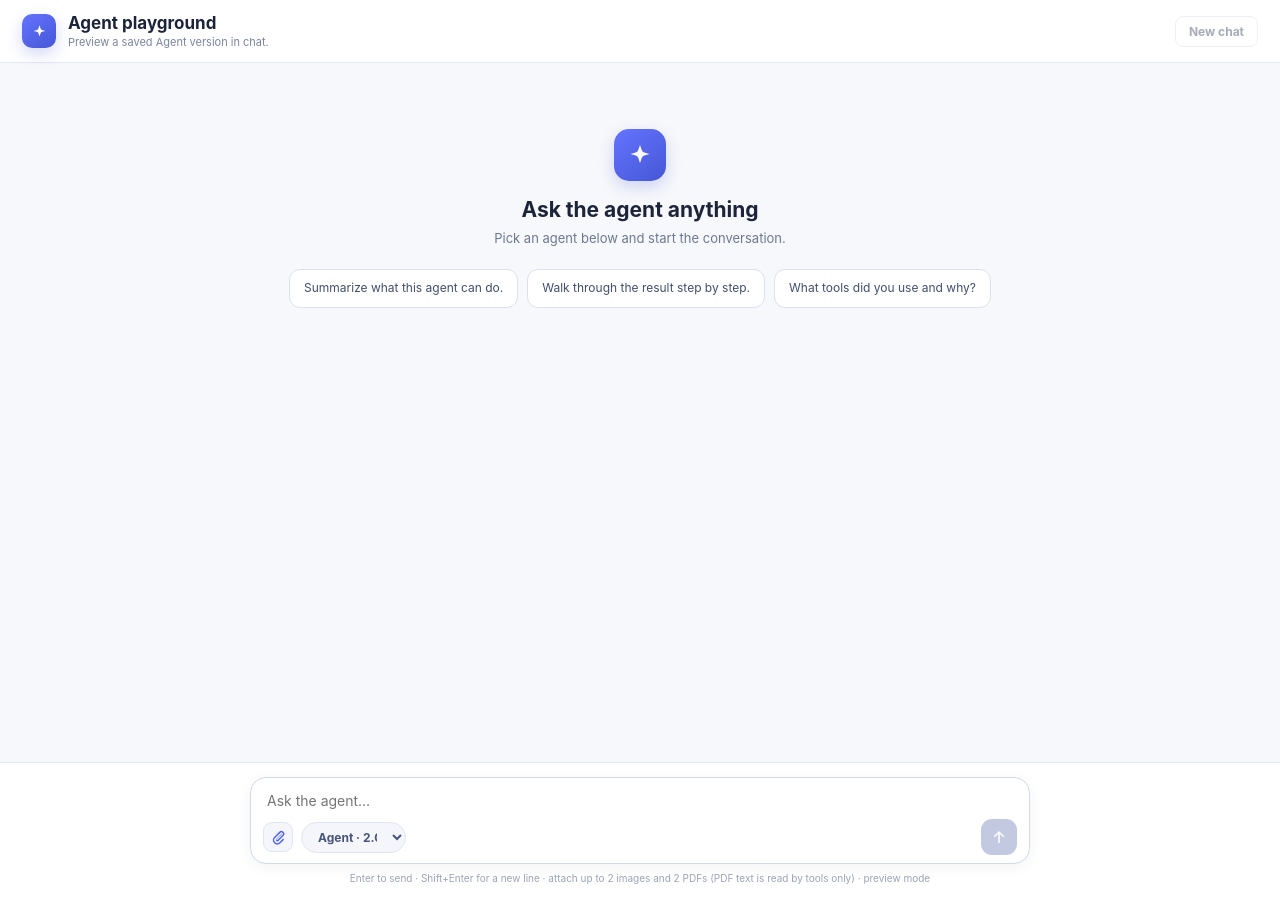
Scenario: ChatPage › 保存済みAgent versionを固定して実行し応答を表示する
In the text box named "Chat message": (640,800) [263,788,1017,813], type "hello"
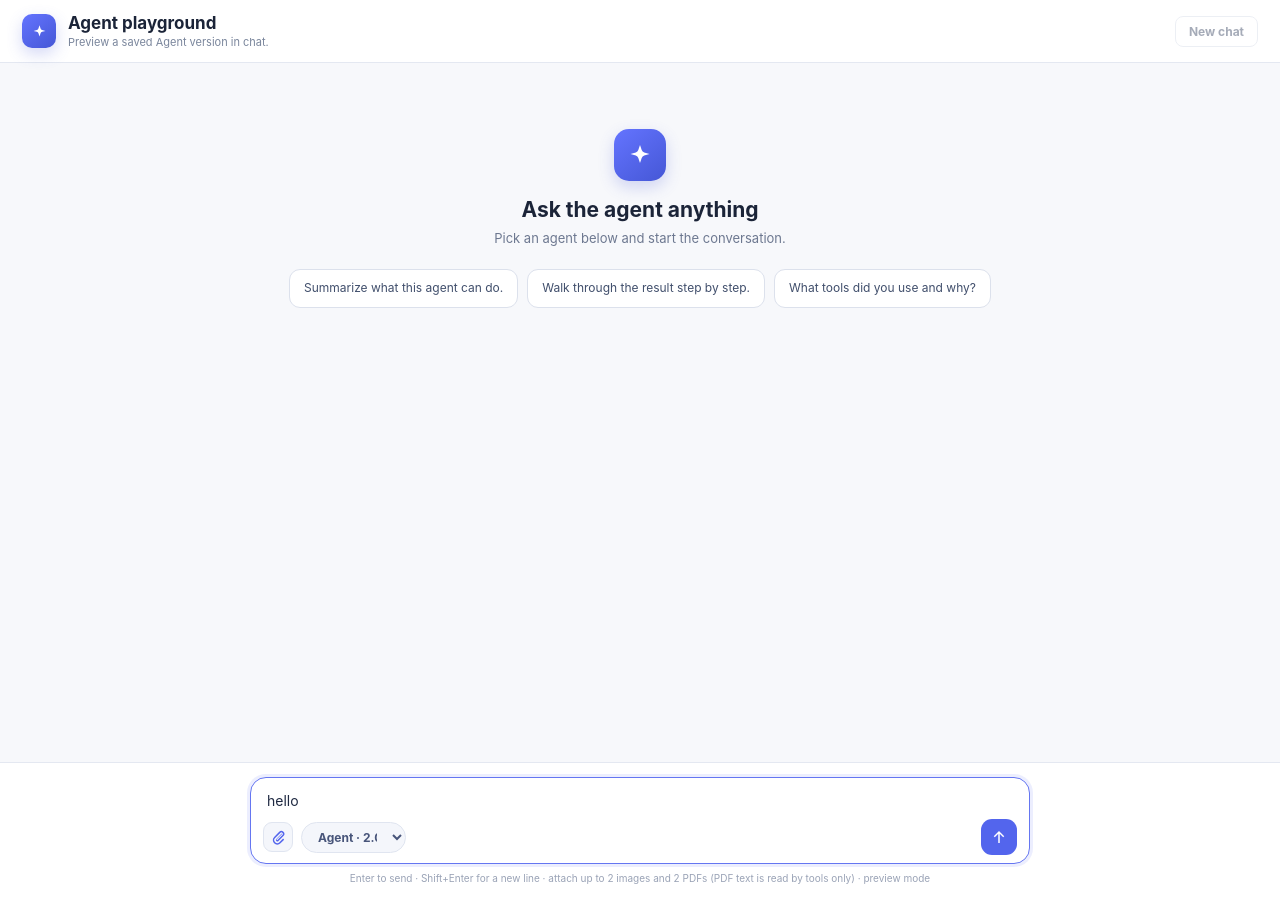
Click the button named "Send": (999,837) [981,819,1017,855]
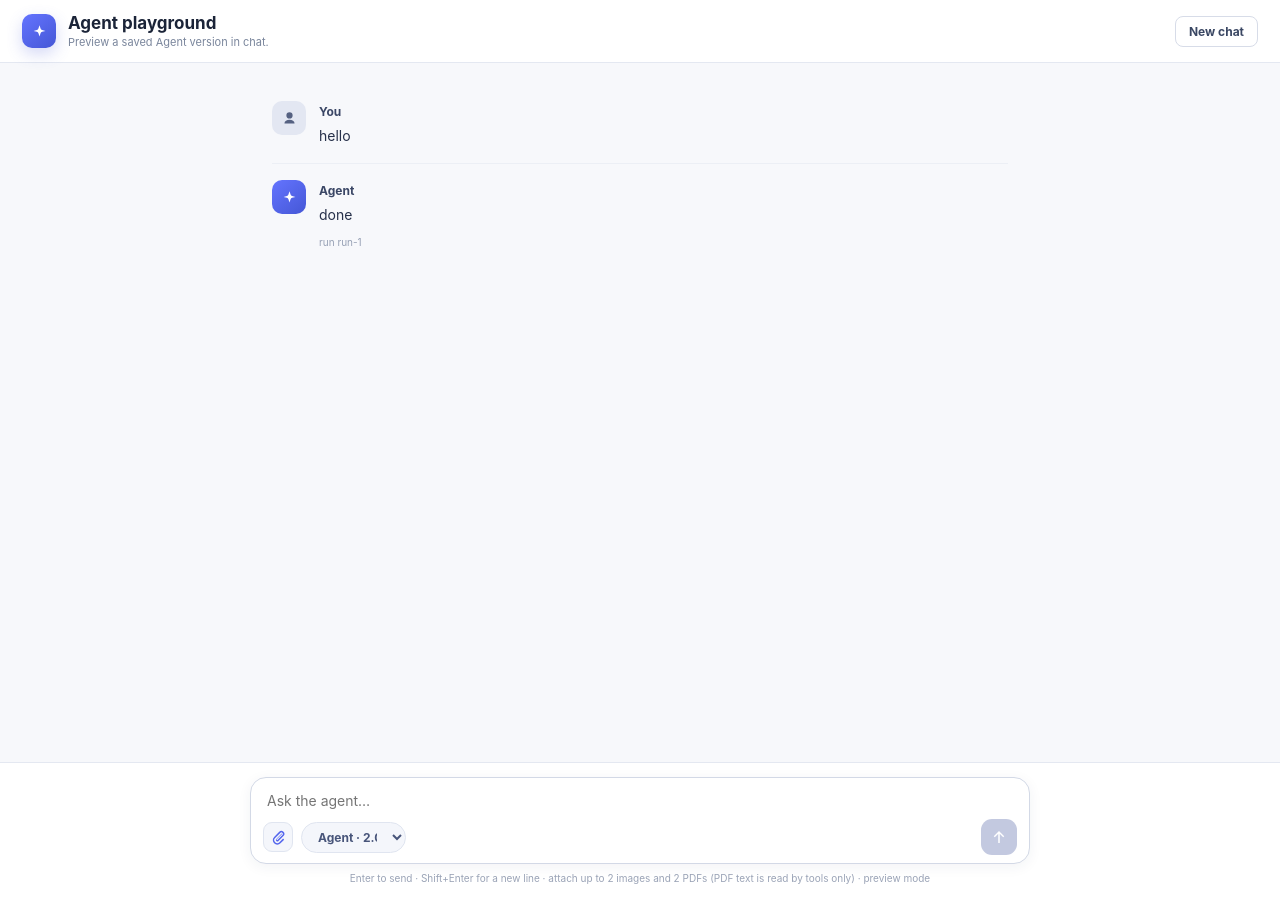
Expected: the text "done" is shown, [319,206,352,224]
